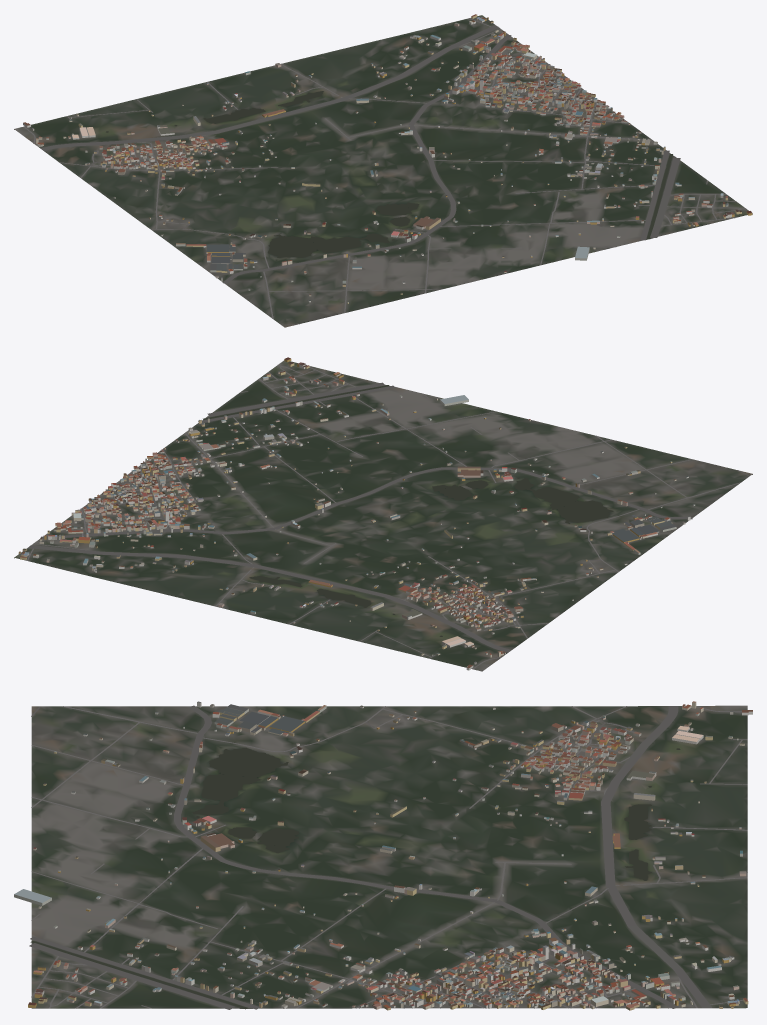
3 renders of one model, top to bottom at view 1: azimuth 30°, elevation 25°; view 2: azimuth 150°, elevation 25°; view 3: azimuth 270°, elevation 25°, orthographic. The views are drawn at different scales.
Parts seen in each view (by area): view 1: ground, buildings, roads, water; view 2: ground, buildings, roads, water; view 3: ground, buildings, roads, water.
Part boxes in pixels (x1=…): ground: x1=14, y1=15, x2=752, y2=327; buildings: x1=23, y1=14, x2=752, y2=303; roads: x1=23, y1=18, x2=746, y2=325; water: x1=106, y1=91, x2=672, y2=257; ground: x1=14, y1=360, x2=752, y2=671; buildings: x1=18, y1=357, x2=695, y2=670; roads: x1=27, y1=364, x2=749, y2=669; water: x1=203, y1=385, x2=613, y2=636; ground: x1=31, y1=705, x2=747, y2=1008; buildings: x1=14, y1=701, x2=752, y2=1010; roads: x1=29, y1=705, x2=747, y2=1009; water: x1=30, y1=747, x2=680, y2=1009.
Bounding box in the file's own units: 1413 × 31.22 × 1447.
